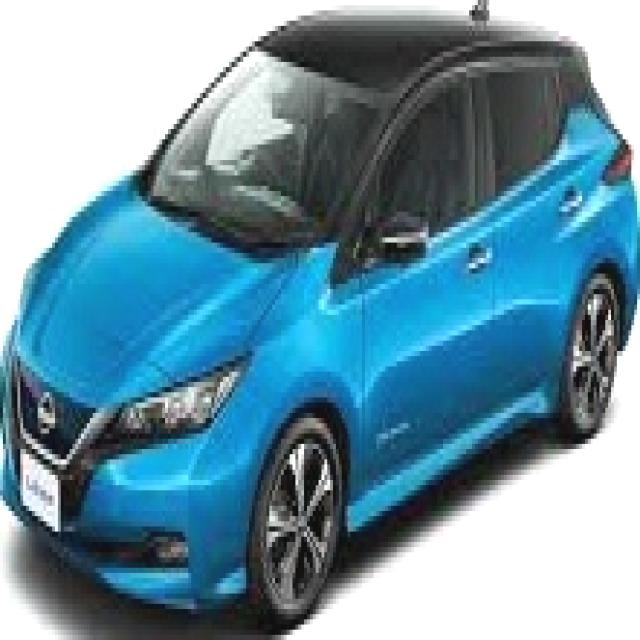blue: (13, 3, 640, 640)
